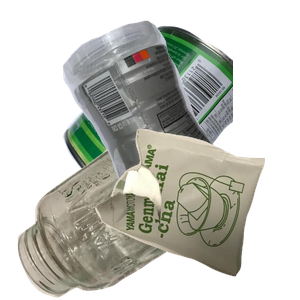glass: (15, 126, 229, 300)
metal: (60, 23, 300, 203)
plastic: (60, 18, 300, 198)
trash: (93, 126, 300, 300)
